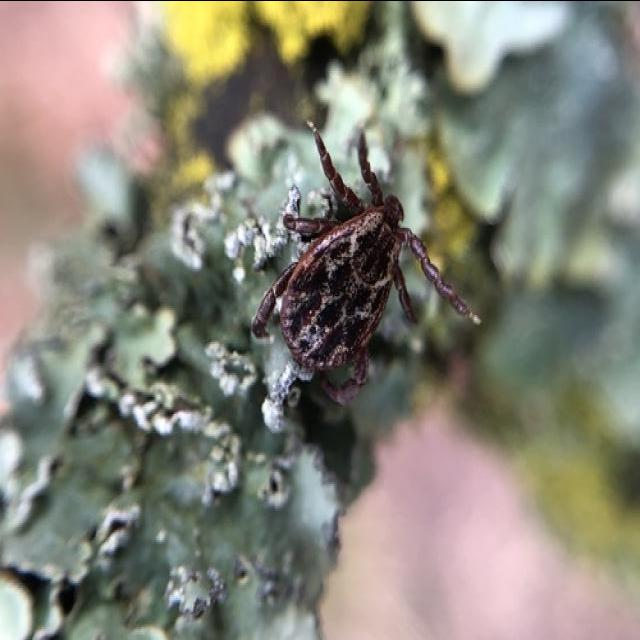Dermacentor Reticulatus-M: (252, 119, 468, 403)
